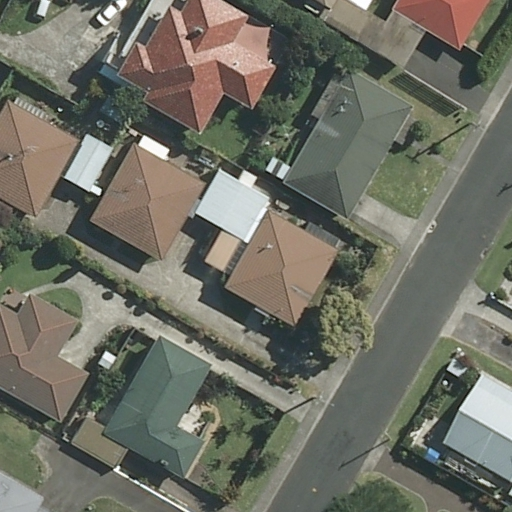DT: (381, 424, 396, 449), (465, 116, 484, 135), (311, 390, 332, 407)
